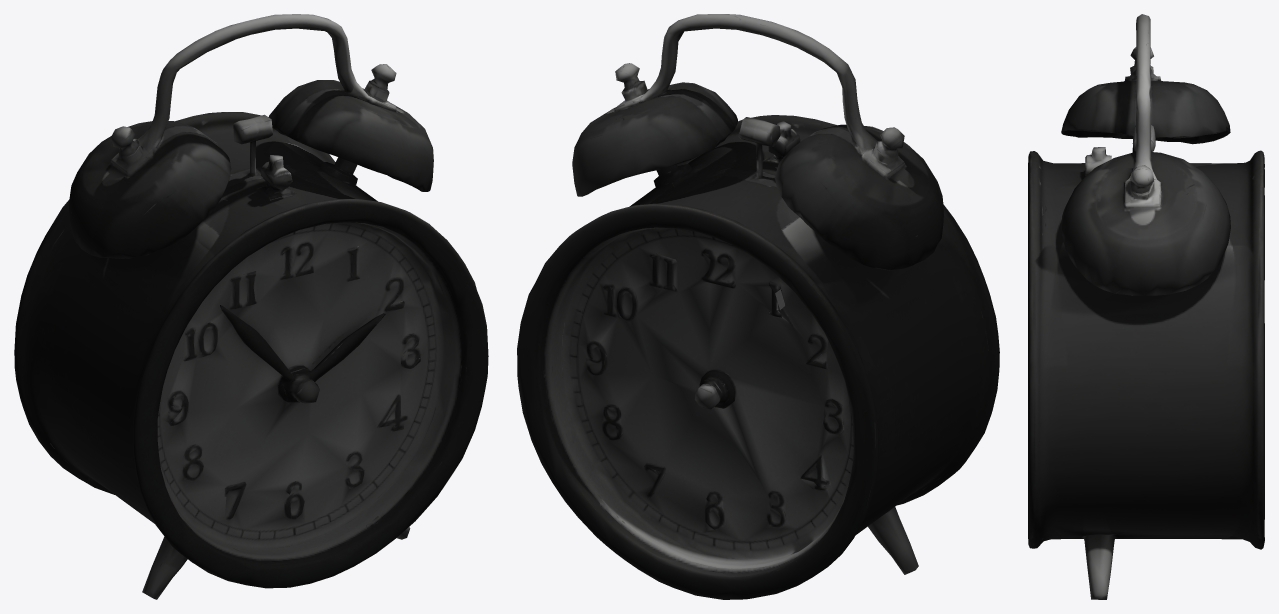
Rendered from masasaatibake.fbx.
3 views of the same model, side by side, from view 1: azimuth 30°, elevation 25°; view 2: azimuth 150°, elevation 25°; view 3: azimuth 270°, elevation 25° (orthographic). The views are drawn at different scales.
Visible parts, largest first — view 1: masasaat_low; view 2: masasaat_low; view 3: masasaat_low.
Boxes of the visible parts, x1,y1,x2,y2 form: masasaat_low: (14, 14, 488, 599); masasaat_low: (517, 14, 999, 599); masasaat_low: (1028, 14, 1264, 599).
Bounding box in the file's own units: 1.34 × 1.91 × 0.8056.
